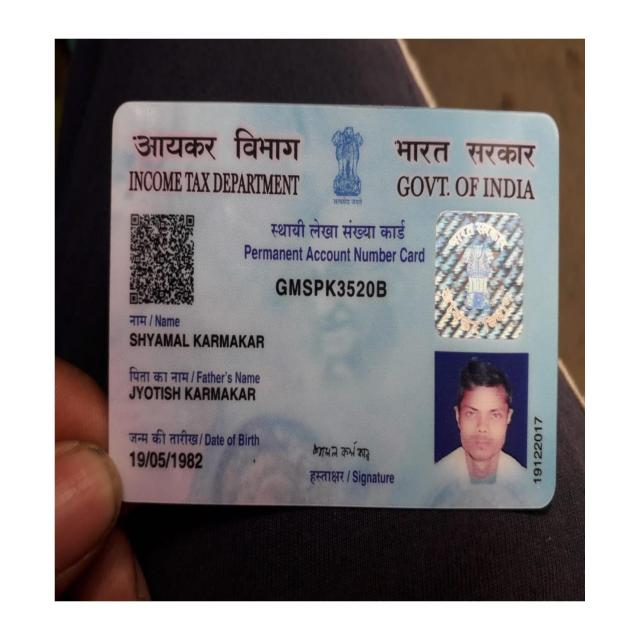pan_card: (113, 112, 554, 503)
